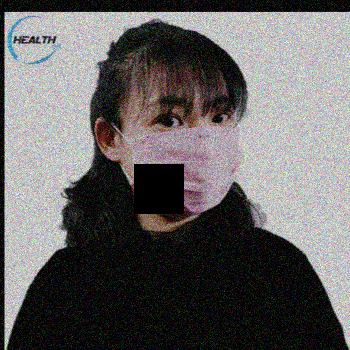with_mask: (122, 89, 243, 215)
